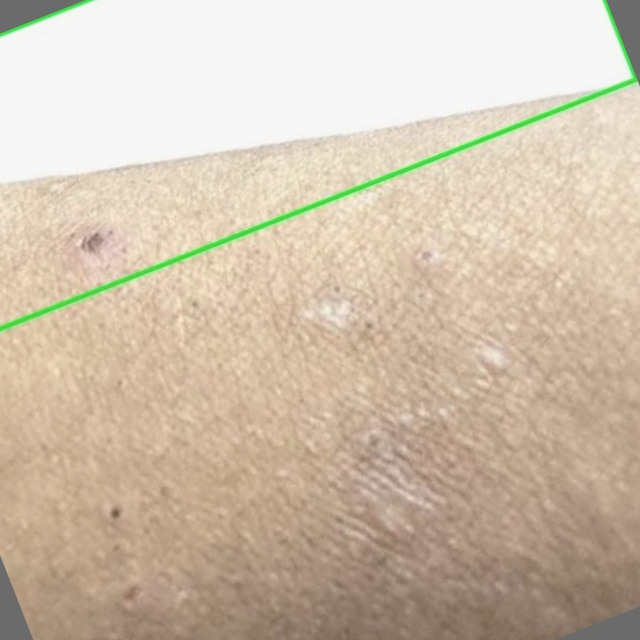Scabies: (0, 0, 636, 328)
